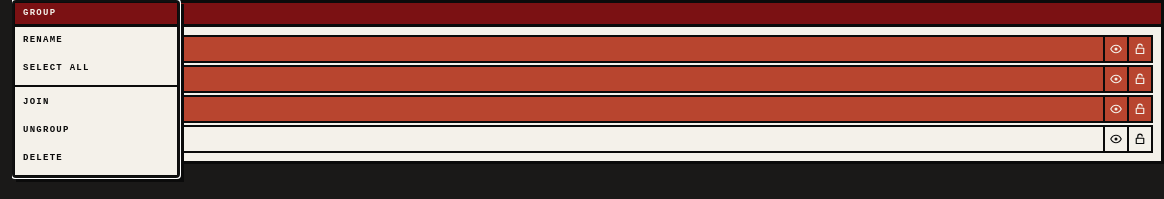
Test: Outliner › groups › ungroups without touching the objects
Click the menu item "UNGROUP".
click(96, 131)  # box [15,117,177,145]
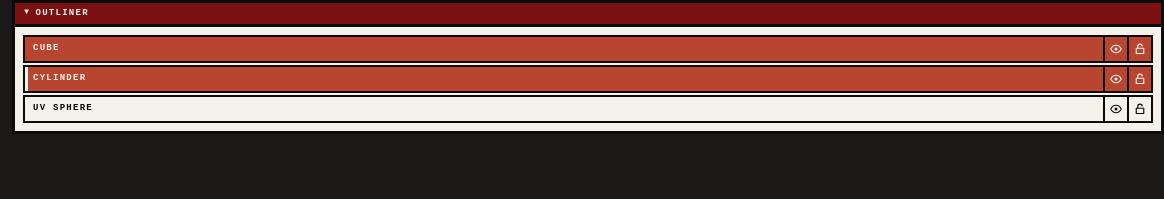
Result: the button "GROUP" is gone
